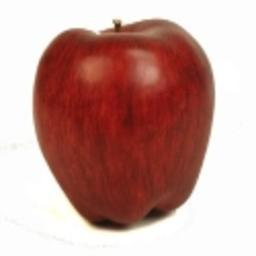apple: (31, 20, 215, 222)
